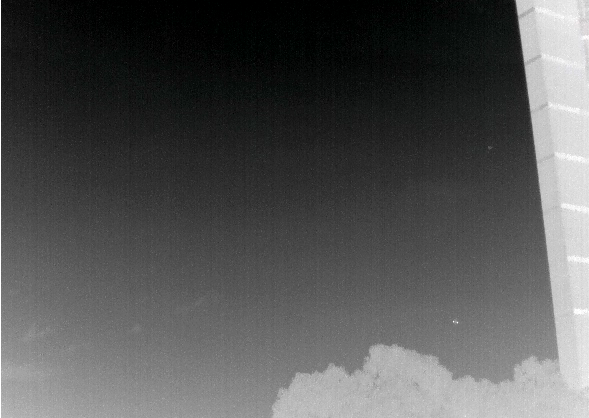dim target: (452, 318, 459, 325), (487, 145, 493, 150)
